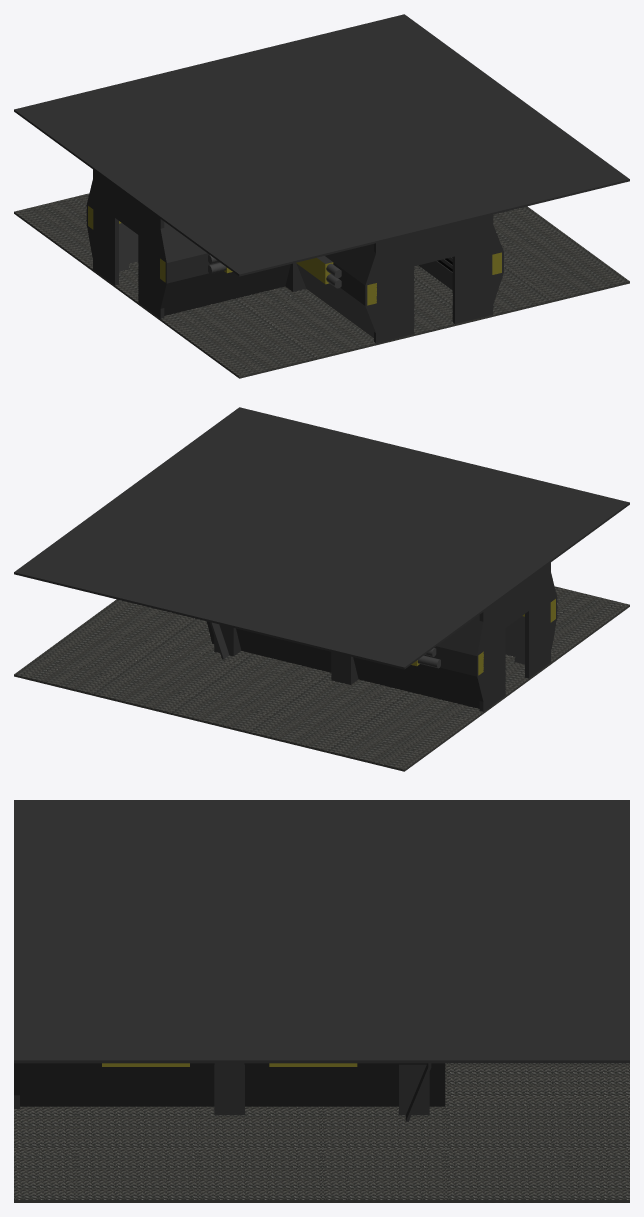
Rendered from NewTurn1.fbx.
3 views of the same model, one above another, from view 1: azimuth 30°, elevation 25°; view 2: azimuth 150°, elevation 25°; view 3: azimuth 270°, elevation 25° (orthographic). The views are drawn at different scales.
Visible parts, largest first — view 1: Cube.004, Cube, Cube.009, Cube.002, Cube.006, Cube.005, Cube.007, Cube.003; view 2: Cube.004, Cube, Cube.003, Cube.005, Cube.002, Cube.012; view 3: Cube.004, Cube, Cube.007, Cube.011, Cube.001.
Boxes of the visible parts, left/top/right/bottom form: Cube.004: left=14, top=14, right=629, bottom=276; Cube: left=14, top=193, right=629, bottom=378; Cube.009: left=374, top=215, right=493, bottom=344; Cube.002: left=151, top=212, right=290, bottom=317; Cube.006: left=296, top=238, right=391, bottom=342; Cube.005: left=93, top=169, right=164, bottom=318; Cube.007: left=419, top=215, right=503, bottom=318; Cube.003: left=86, top=170, right=138, bottom=275; Cube.004: left=14, top=407, right=629, bottom=669; Cube: left=14, top=586, right=629, bottom=771; Cube.003: left=206, top=605, right=492, bottom=710; Cube.005: left=479, top=562, right=550, bottom=711; Cube.002: left=505, top=564, right=557, bottom=668; Cube.012: left=331, top=652, right=358, bottom=684; Cube.004: left=14, top=800, right=629, bottom=1063; Cube: left=14, top=1063, right=629, bottom=1202; Cube.007: left=14, top=1063, right=445, bottom=1106; Cube.011: left=214, top=1063, right=244, bottom=1115; Cube.001: left=399, top=1064, right=429, bottom=1115.
Bounding box in the file's own units: 4000 × 1020 × 4000.
